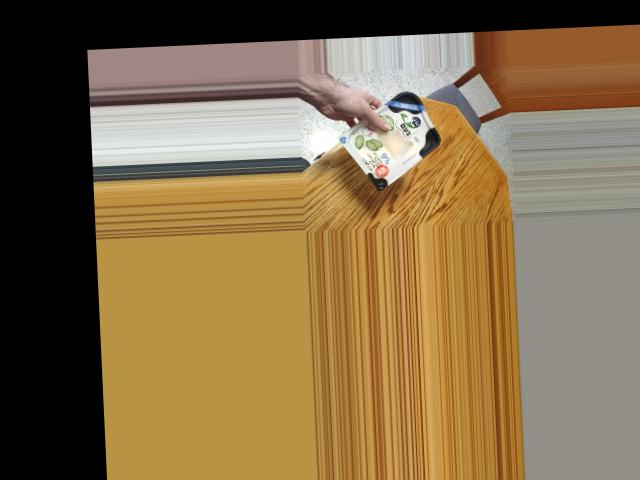cheese: (353, 84, 438, 185)
